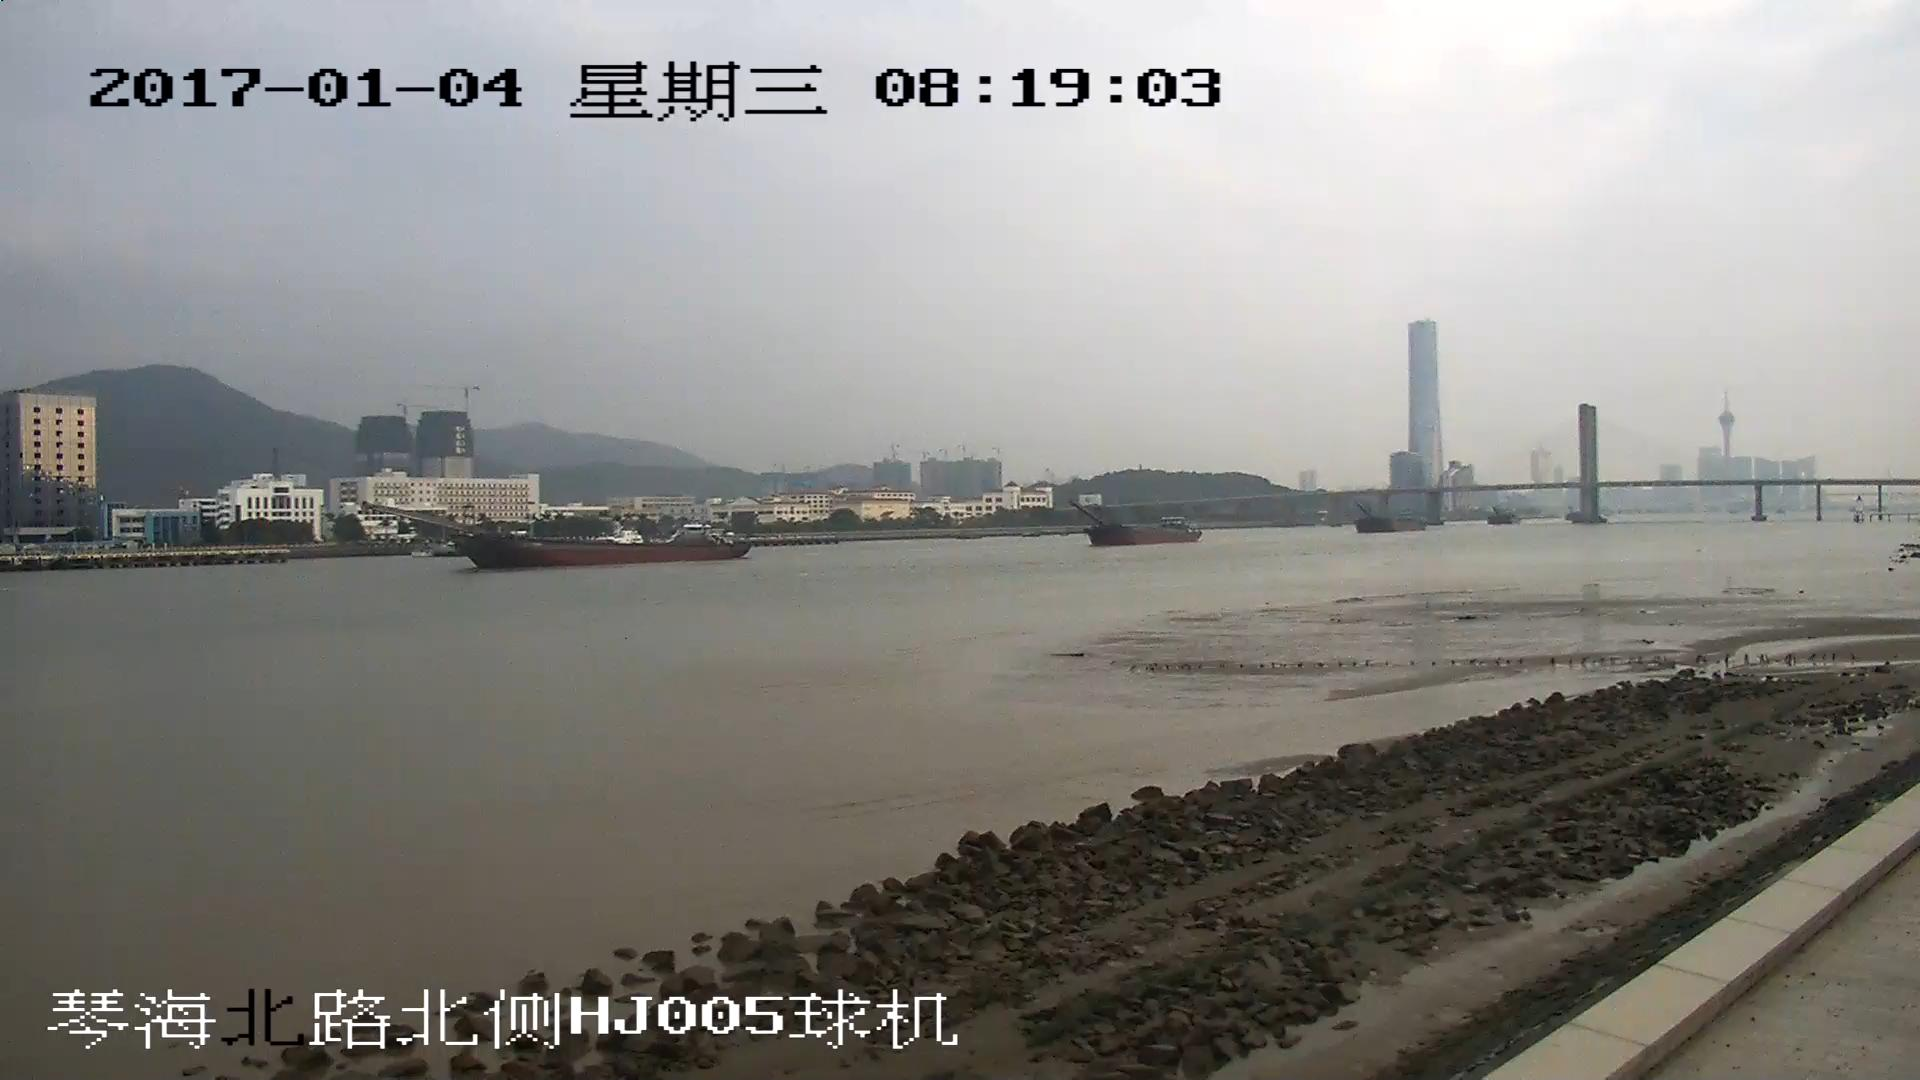bulk cargo carrier: (361, 503, 754, 560), (1077, 503, 1201, 543)
